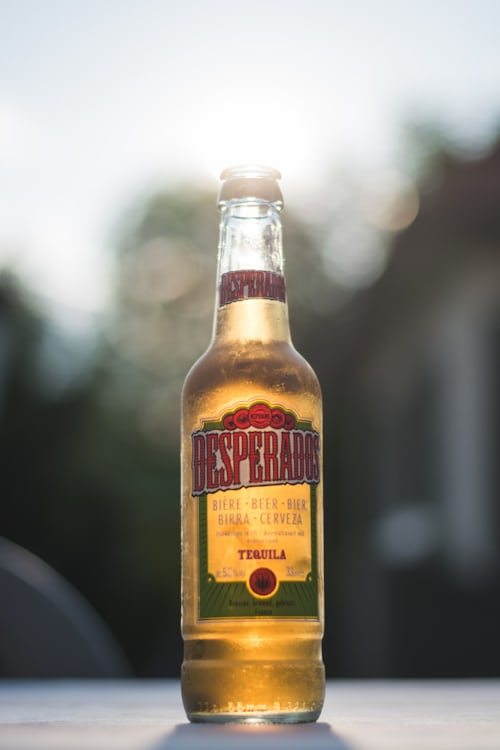Bottle: (168, 151, 329, 740)
